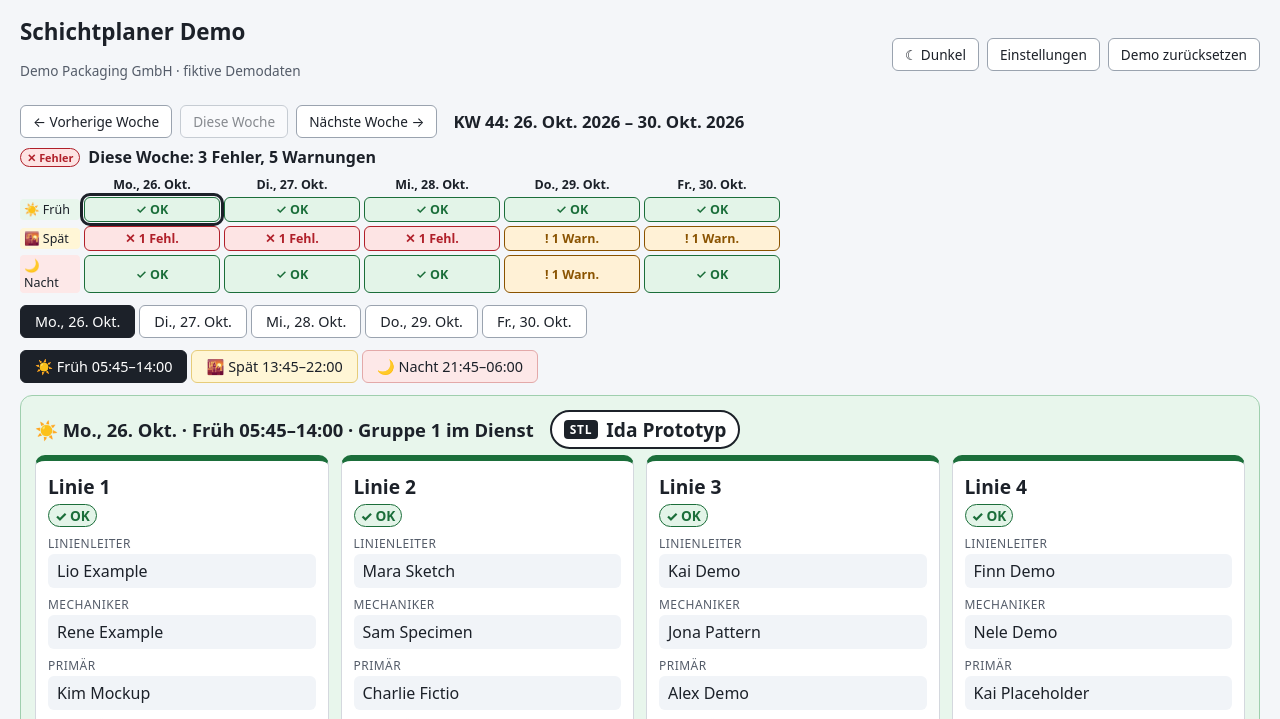
Scenario: line-first shift view › switches day and shift with tabs and shows times and crew
Click the button "Mi., 28. Okt.". click: (306, 322)
box: x1=251 y1=305 x2=361 y2=338
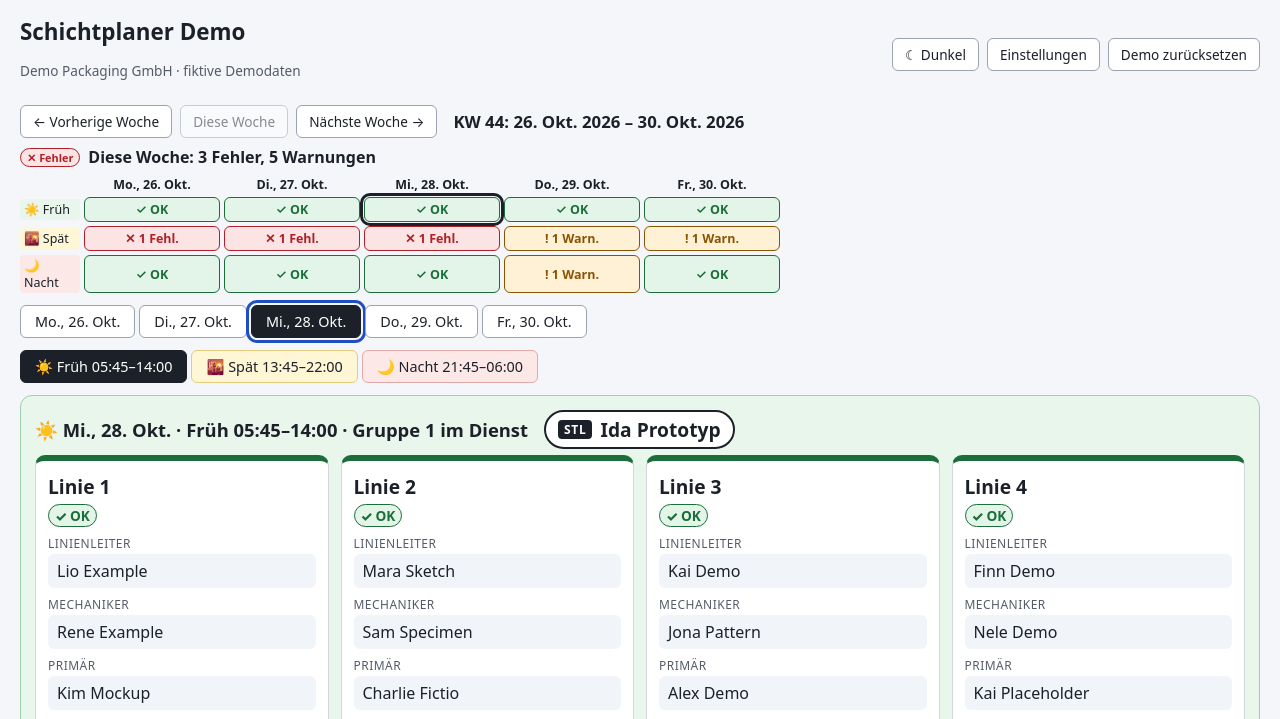
Click the button "🌙 Nacht 21:45–06:00". click: (450, 367)
box: x1=362 y1=350 x2=538 y2=383
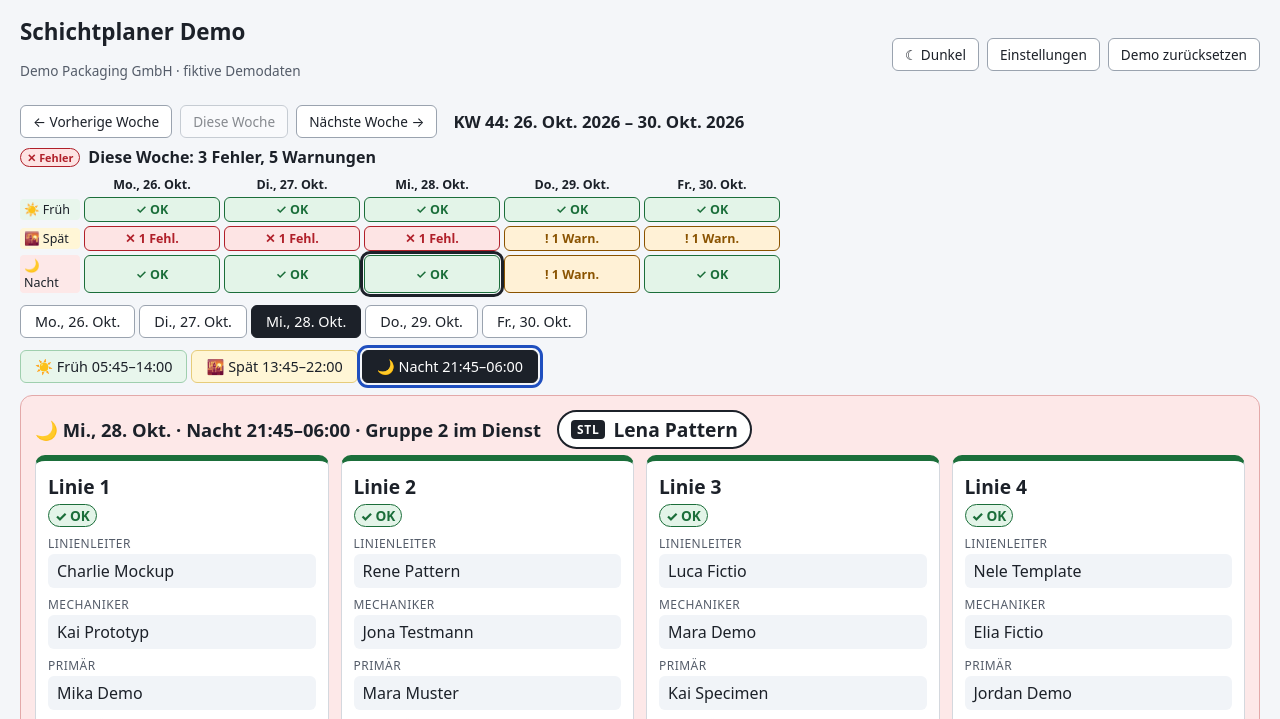
Now the heading "🌙 Mi., 28. Okt. · Nacht 21:45–06:00 · Gruppe 2 im Dienst" is shown, box x1=35 y1=417 x2=541 y2=442
